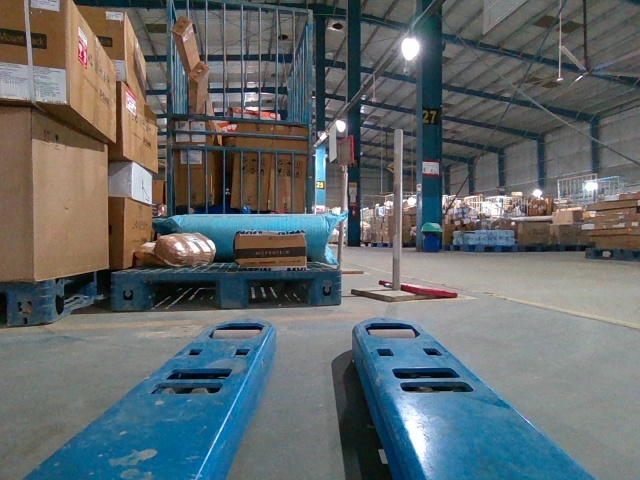block: (7, 283, 51, 329), (111, 270, 148, 313), (217, 272, 250, 311), (311, 271, 343, 308)
front: (110, 270, 340, 309)
hole pallet: (145, 282, 217, 308), (247, 278, 310, 306)
